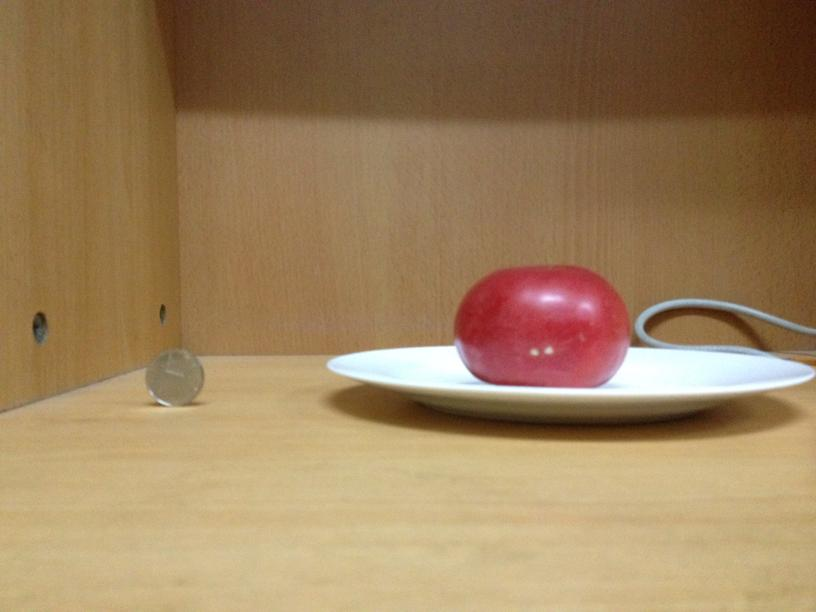coin: (139, 347, 206, 405)
tomato: (445, 262, 631, 389)
